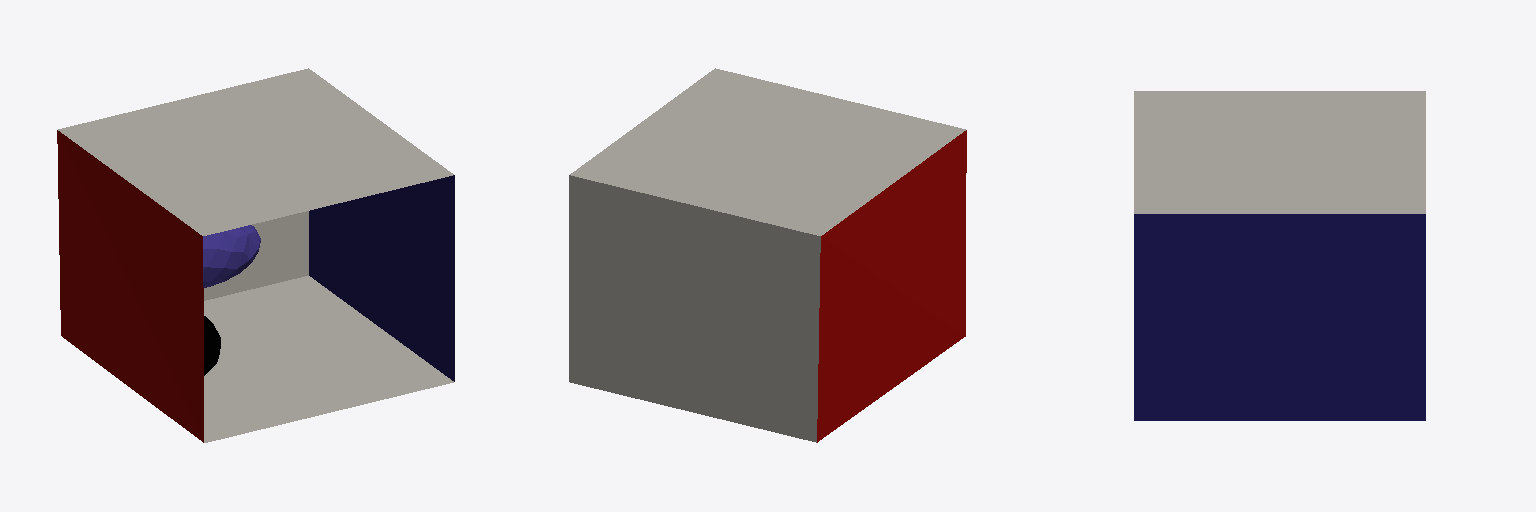
File: CornellBox-Ellipsoid-46.obj
The picture shows the model from 3 angles: view 1: azimuth 30°, elevation 25°; view 2: azimuth 150°, elevation 25°; view 3: azimuth 270°, elevation 25°; orthographic projection.
Parts seen in each view (by area): view 1: ceiling, leftWall, floor, rightWall, backWall, leftSphere, rightSphere; view 2: backWall, ceiling, leftWall; view 3: rightWall, ceiling.
Part boxes in pixels (x1,y1,x2,y2): ceiling: (58,68,453,235); leftWall: (57,130,203,442); floor: (204,276,453,442); rightWall: (309,175,454,381); backWall: (204,211,308,300); leftSphere: (203,225,260,287); rightSphere: (204,316,220,375); backWall: (569,175,820,442); ceiling: (570,68,965,235); leftWall: (817,130,966,442); rightWall: (1134,214,1425,420); ceiling: (1134,91,1425,213).
Size of the model in its own units: 2.02 by 1.59 by 2.03.